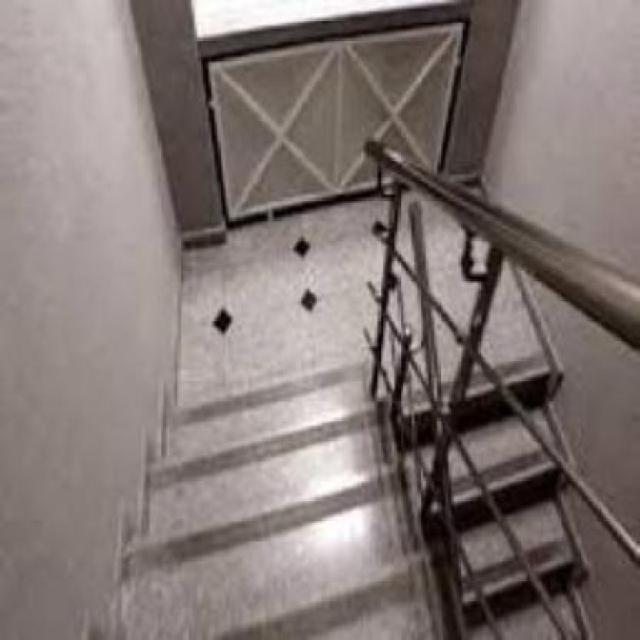stair: (108, 346, 434, 640)
